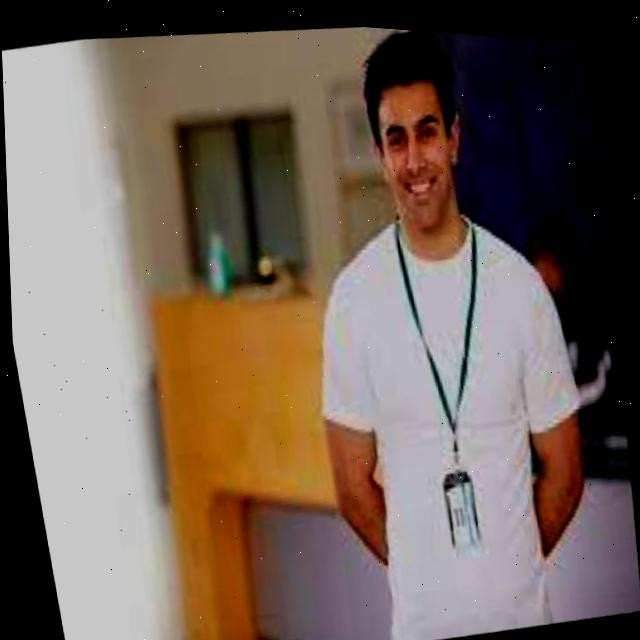id_card: (382, 201, 537, 561)
